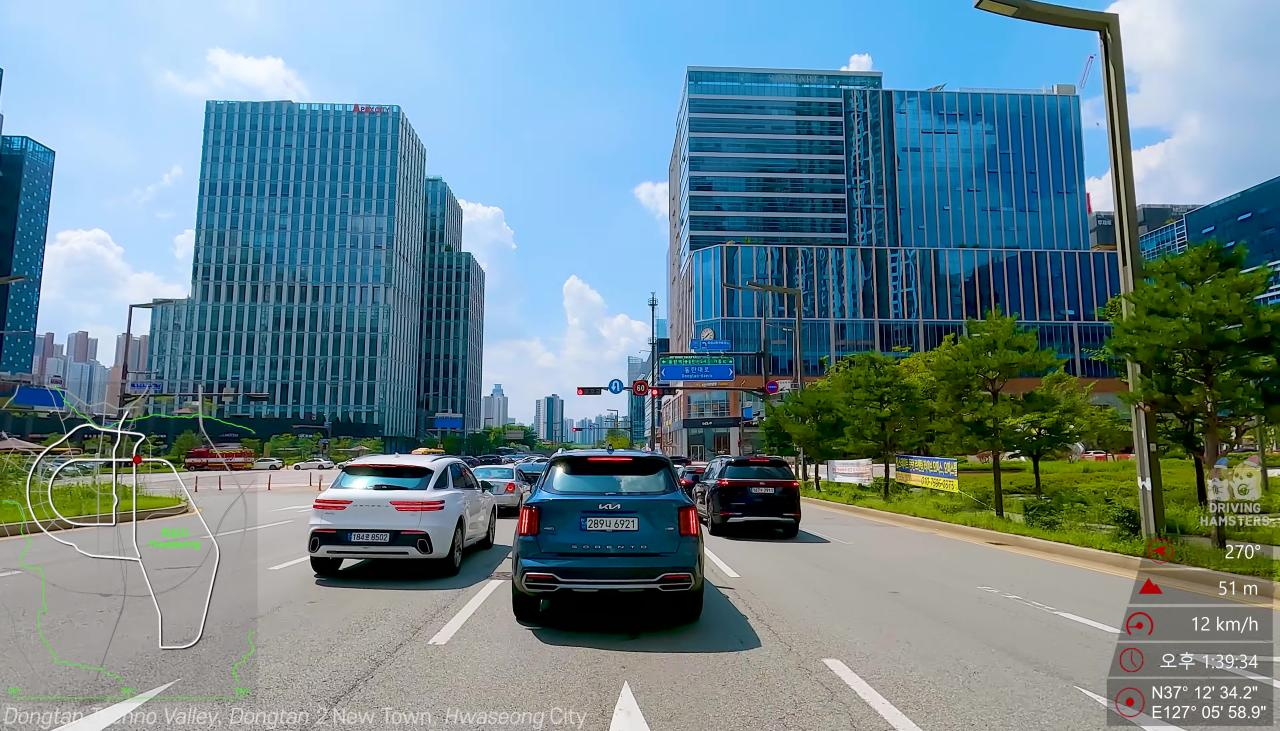Red Light: (576, 389, 584, 395), (652, 389, 658, 395)
